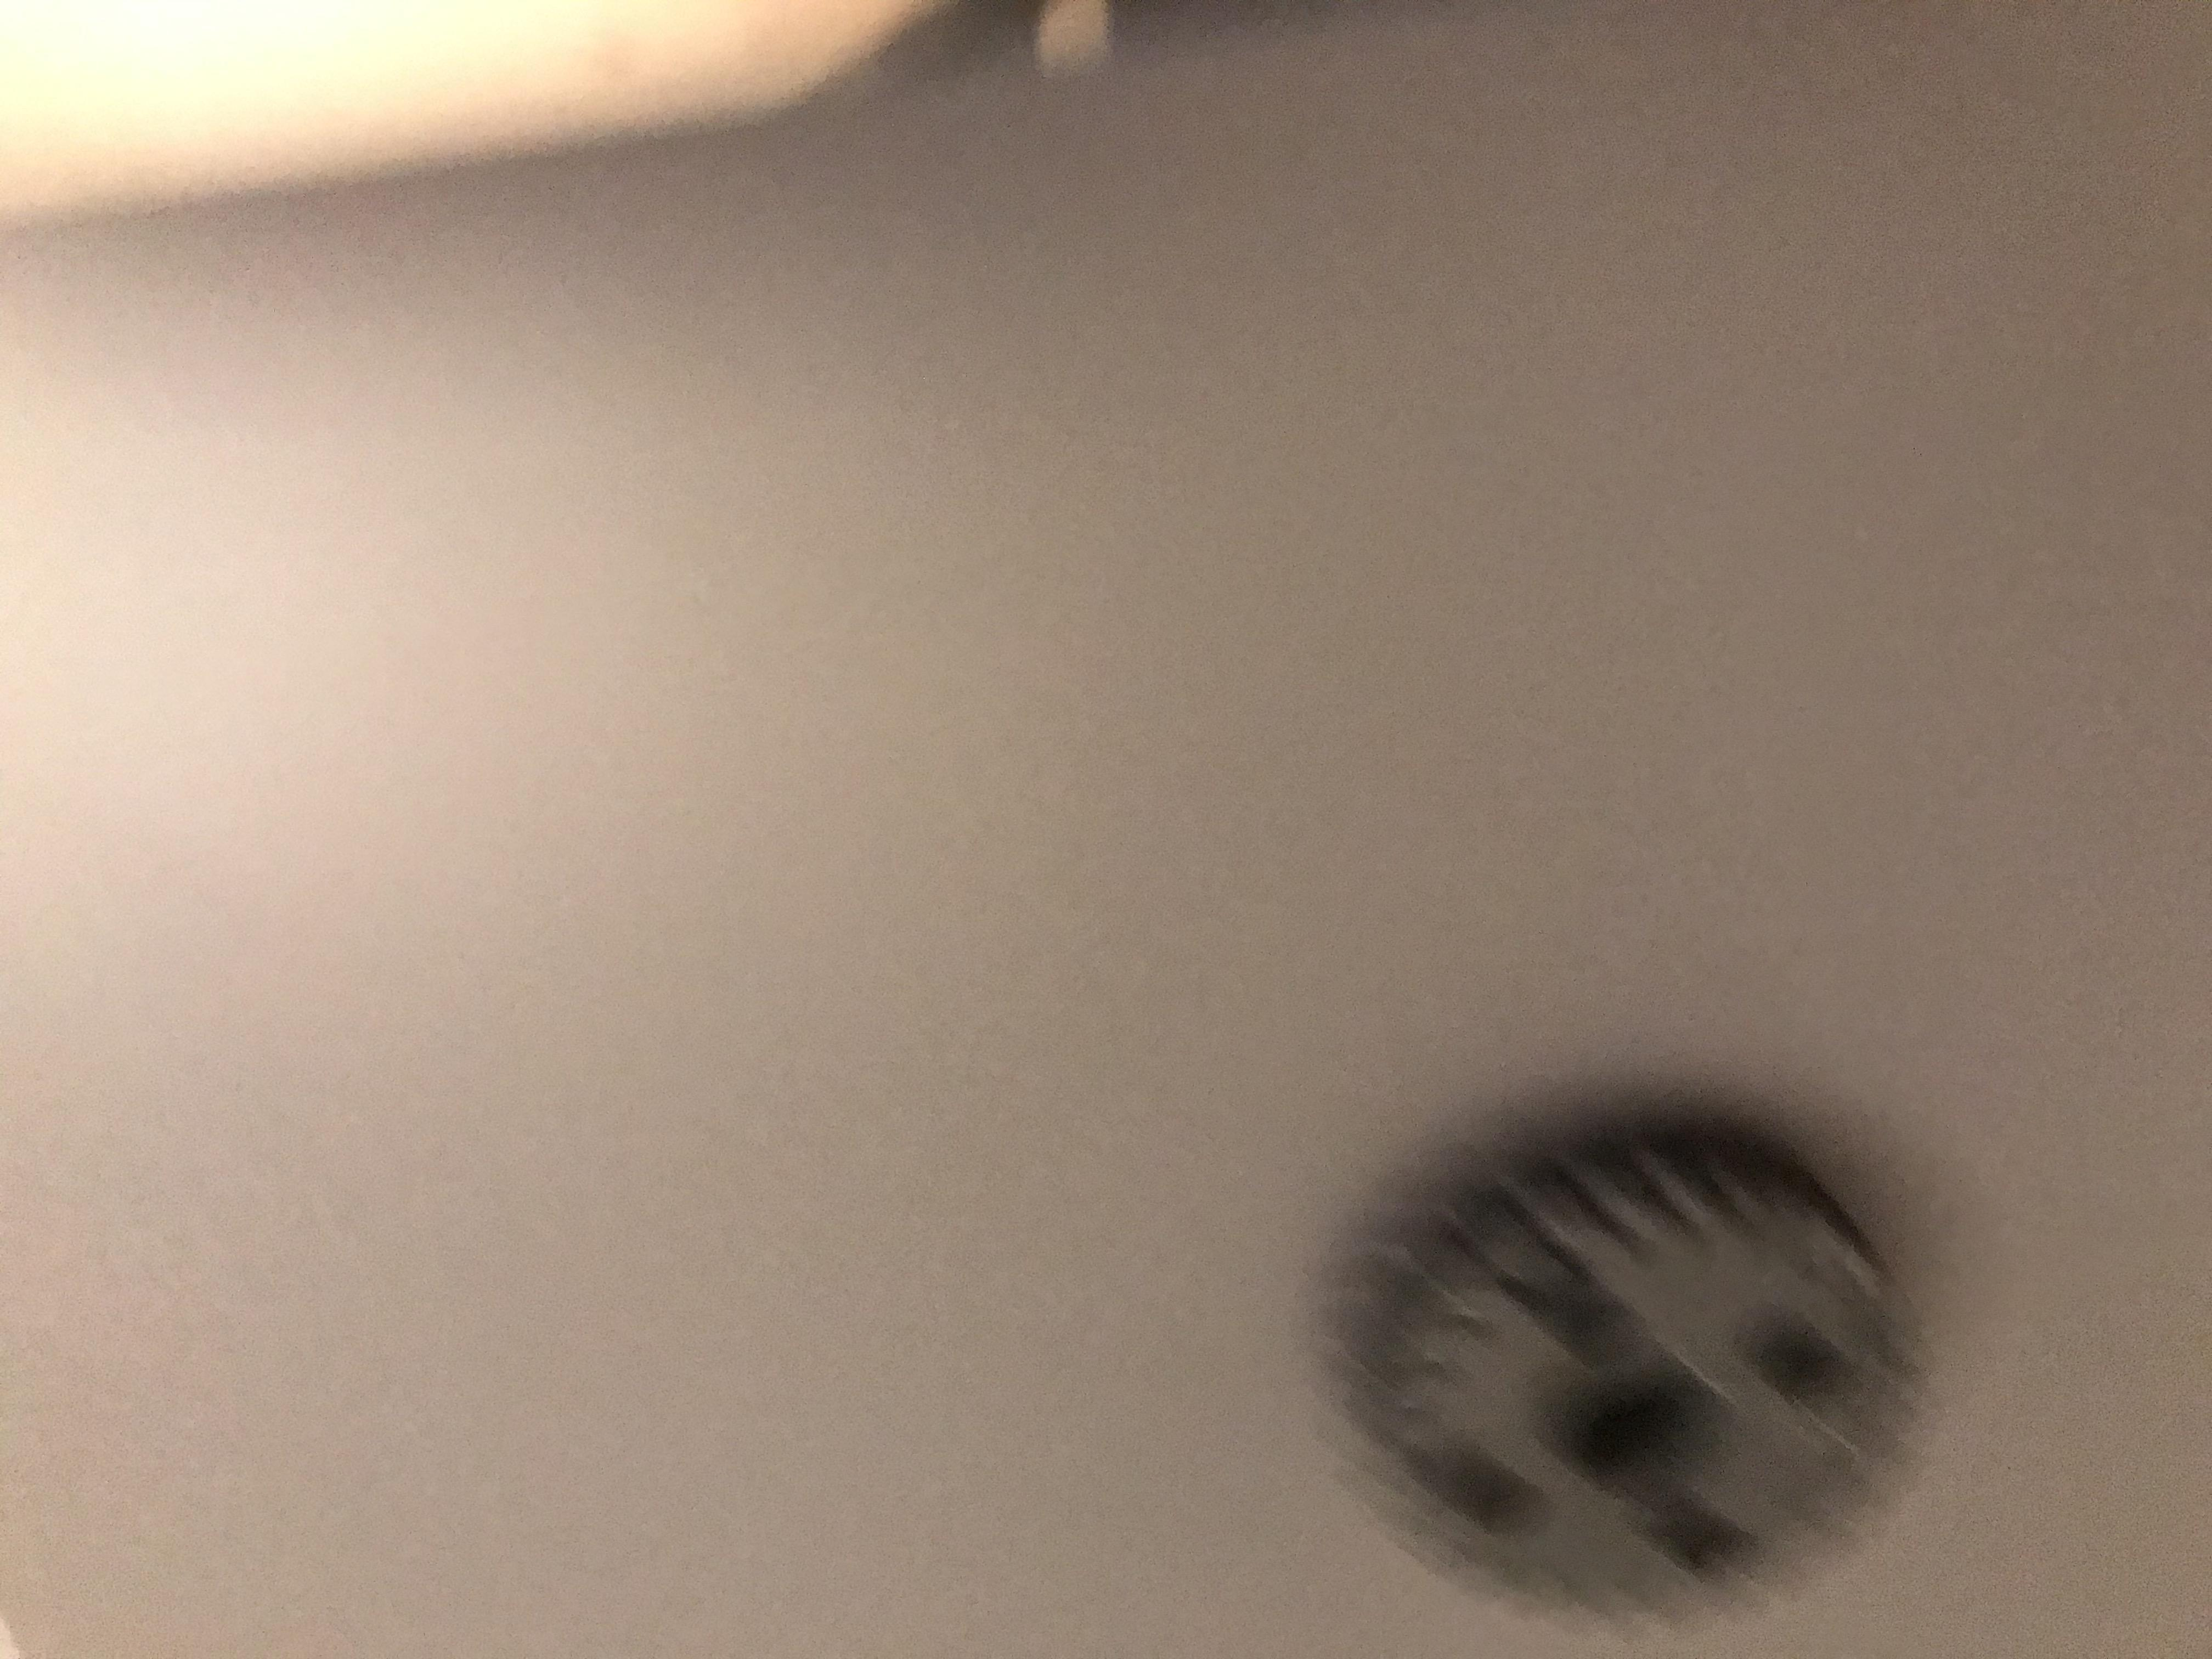Wheel: (1332, 1117, 1928, 1638)
